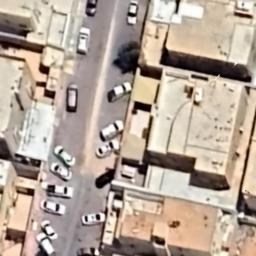SUV: (76, 24, 92, 56)
pickup: (104, 79, 132, 105), (45, 182, 75, 200)
sedan: (51, 144, 77, 168), (39, 198, 68, 218), (48, 162, 75, 182), (92, 140, 120, 159), (124, 0, 142, 26), (38, 218, 59, 240), (84, 0, 98, 18)
van: (96, 120, 126, 142), (34, 232, 56, 256), (65, 82, 79, 114)
